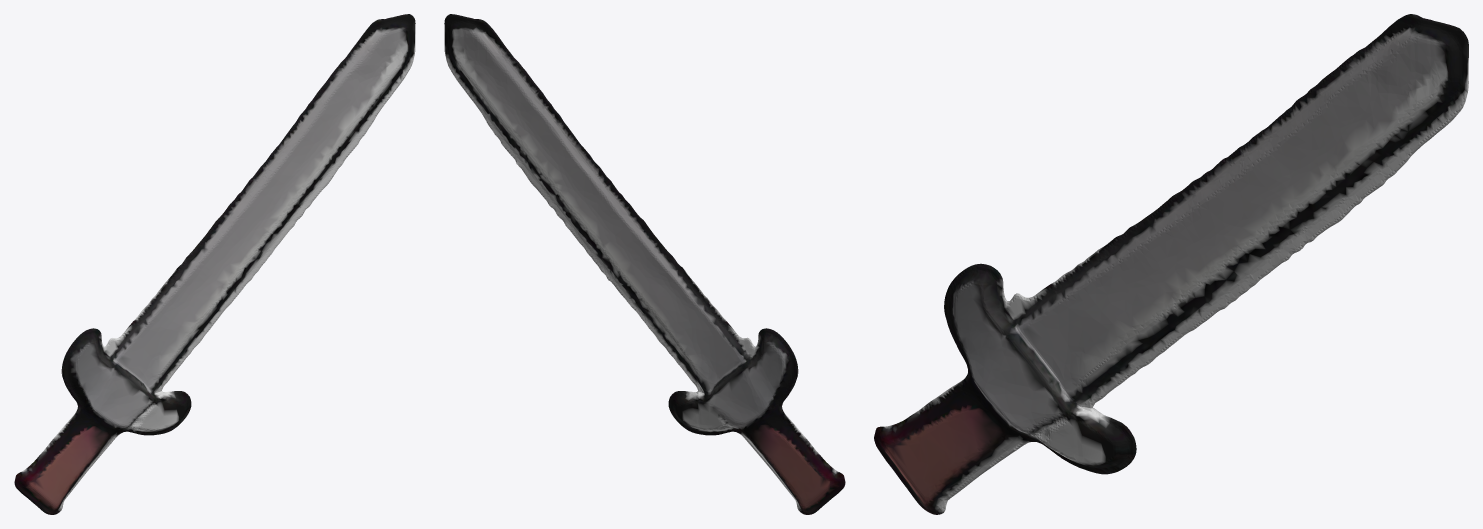
Rendered from sword_3.glb.
The picture shows the model from 3 angles, left to right: view 1: azimuth 30°, elevation 25°; view 2: azimuth 150°, elevation 25°; view 3: azimuth 330°, elevation 25°; orthographic projection. The views are drawn at different scales.
Visible parts, largest first — view 1: geometry_0; view 2: geometry_0; view 3: geometry_0.
Part boxes in pixels (box(x1,y1,x2,y2)): geometry_0: box(14, 14, 415, 514); geometry_0: box(444, 14, 845, 514); geometry_0: box(874, 14, 1468, 514).
Size of the model in its own units: 0.9375 by 0.9297 by 0.0472.
